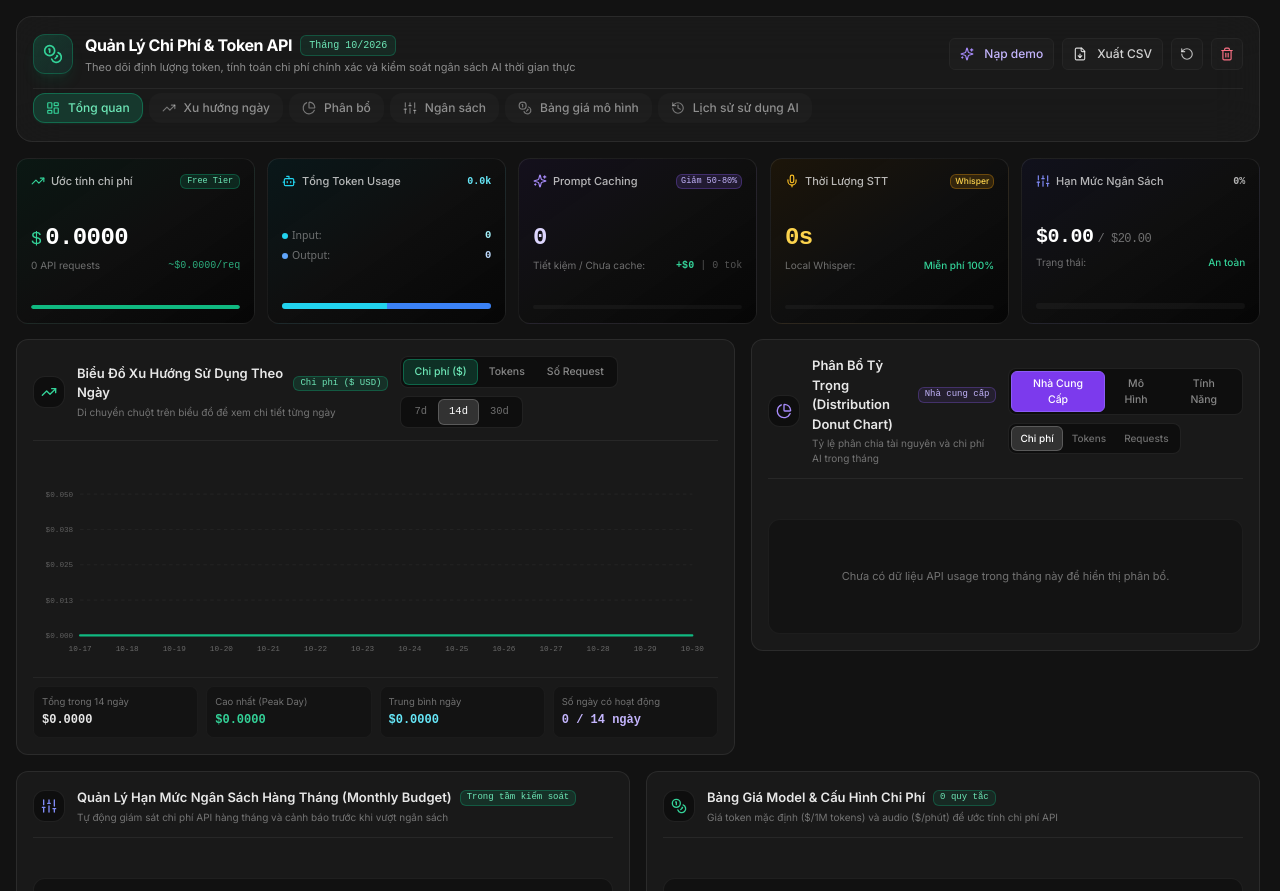
Test: CostTracker Screen Smoke Tests › opens and closes reset statistics confirmation modal
What coordinates should you click on to do the following:
click the button titled "Đặt lại thống kê cục bộ"
I would click on:
 (1227, 54)
Its box is [1211, 38, 1243, 70].
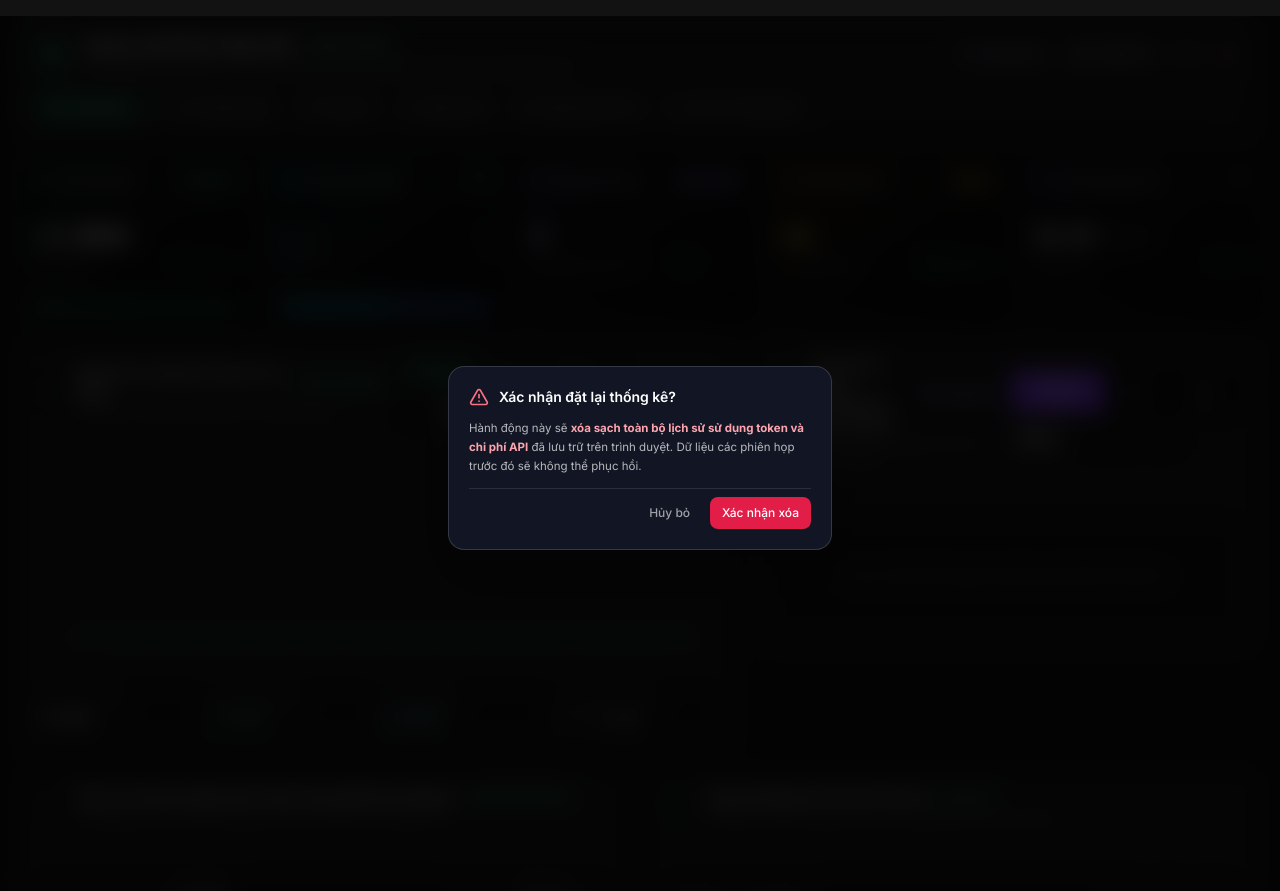
Expected: the heading "Xác nhận đặt lại thống kê?" is shown, [499, 388, 676, 408]
# Click cancel button
What coordinates should you click on to do the following:
click the button "Hủy bỏ"
I would click on:
 (670, 512)
Its box is [637, 496, 702, 528].
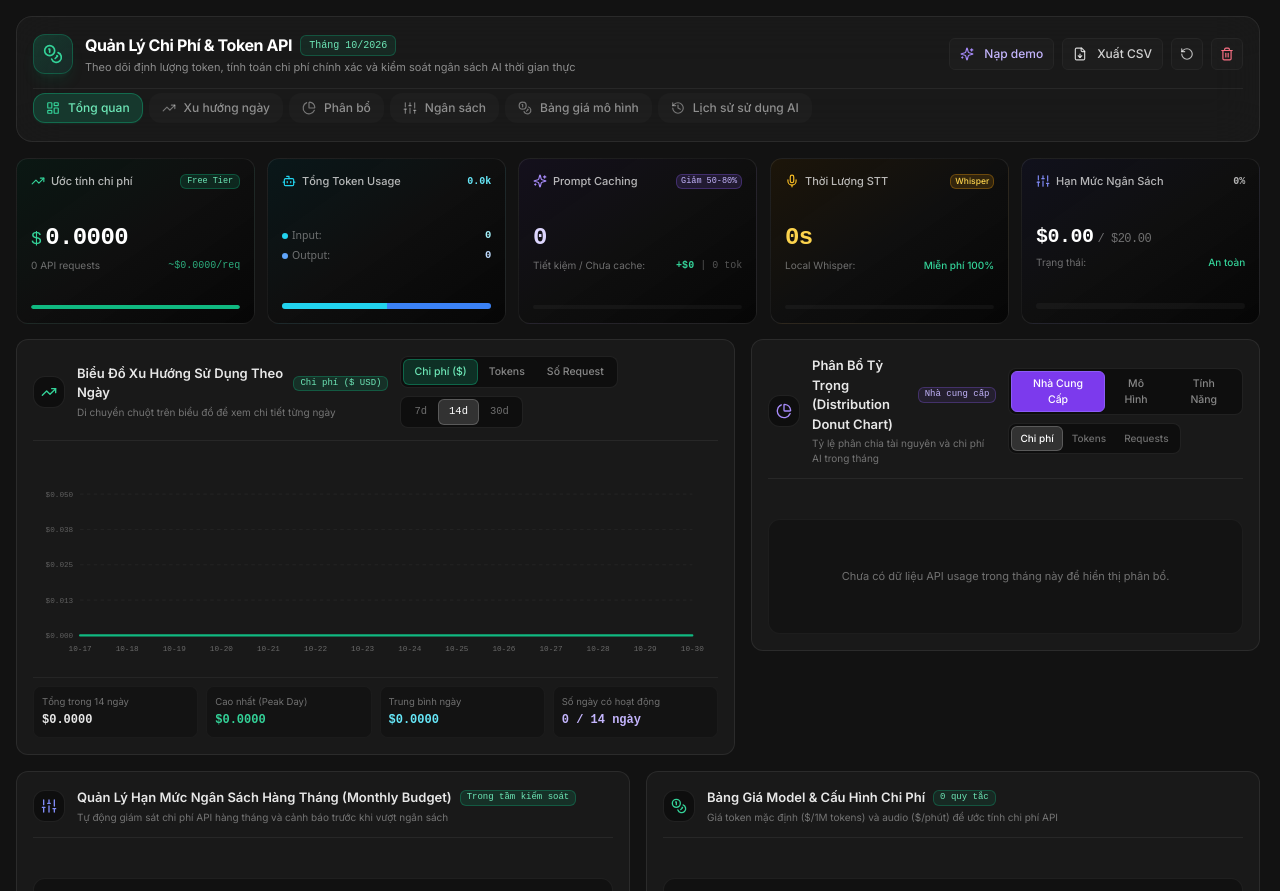
Expected: the heading "Xác nhận đặt lại thống kê?" is gone
